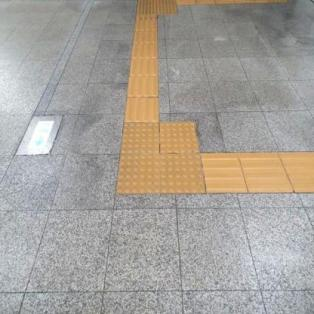Podoctatil: (101, 103, 236, 219), (202, 152, 314, 192), (126, 18, 160, 121)
